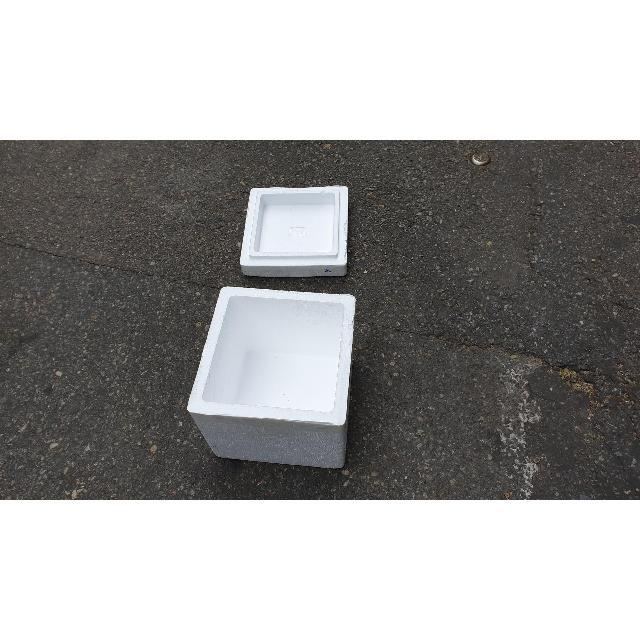Plastico descartable: (186, 287, 356, 470), (241, 186, 350, 275)
